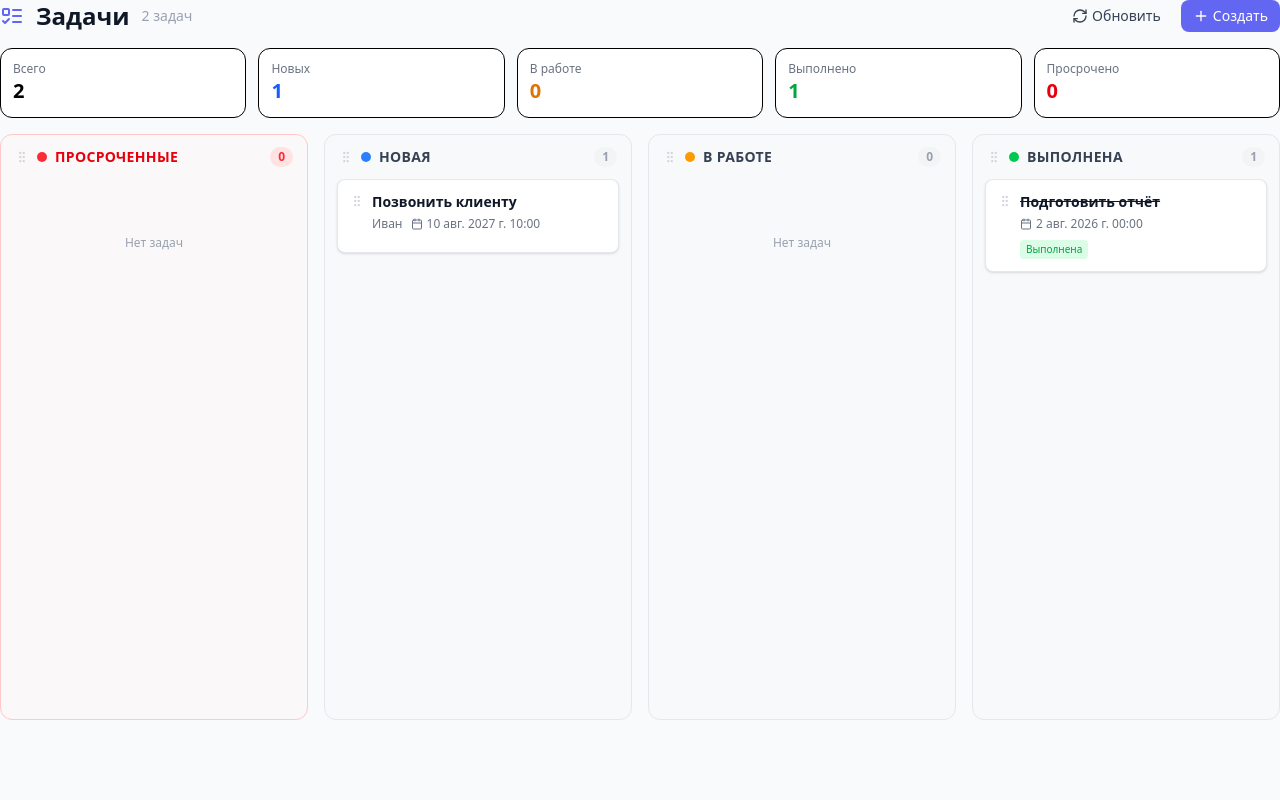
Tasks page › opens task detail modal on card click
The width and height of the screenshot is (1280, 800).
Expected: the text "Позвонить клиенту" is shown, [372,192,517,211]
Step 1. Click the button "Позвонить клиенту" → (478, 216), box [337,179,619,253]
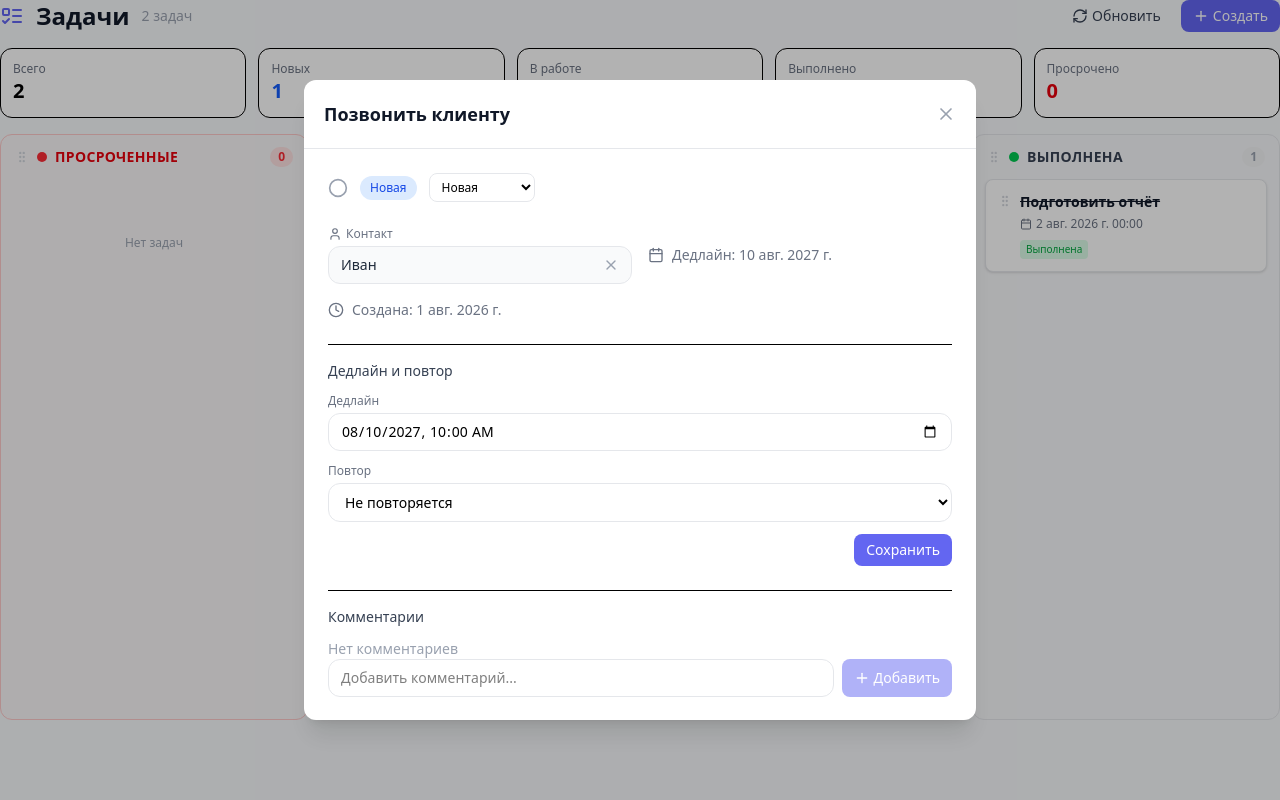
Expected: the text "Контакт" is shown, [328,225,393,242]
